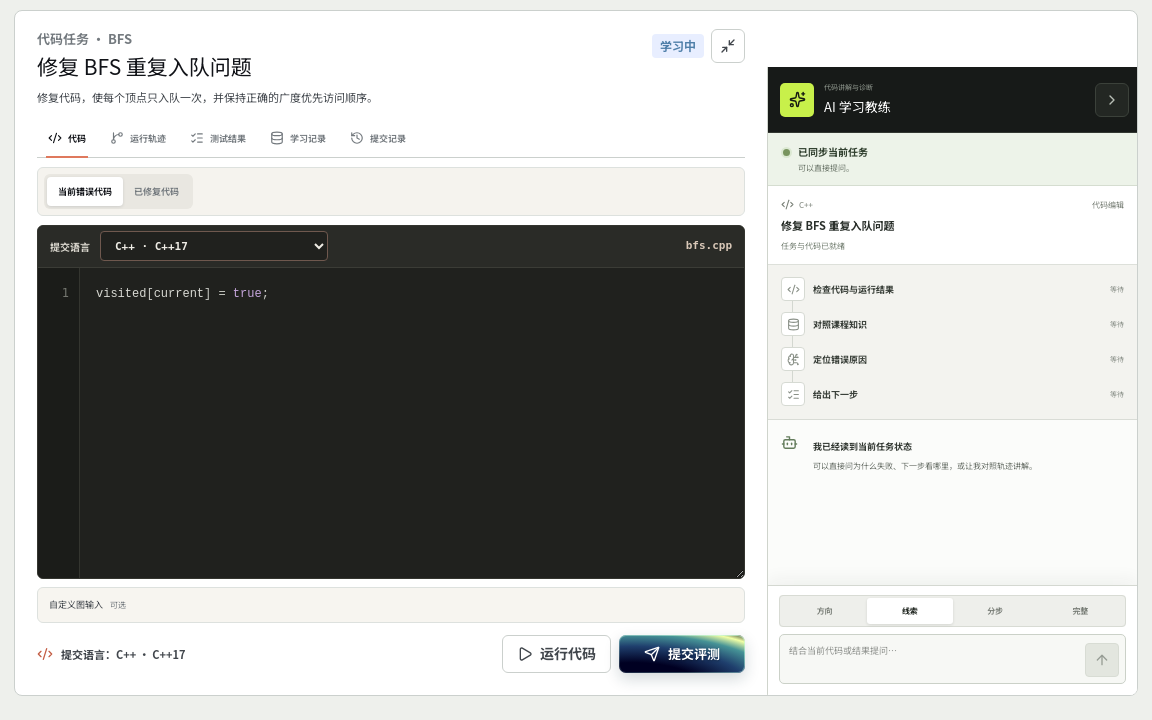
Test: WorkbenchPage › keeps a task-aware AI coach in place and sends the live test context with a hint level
Check: the heading "修复 BFS 重复入队问题" is shown, box [37,52,252,79]
Click the button "运行代码". click: (556, 654)
box: [502,635,611,673]
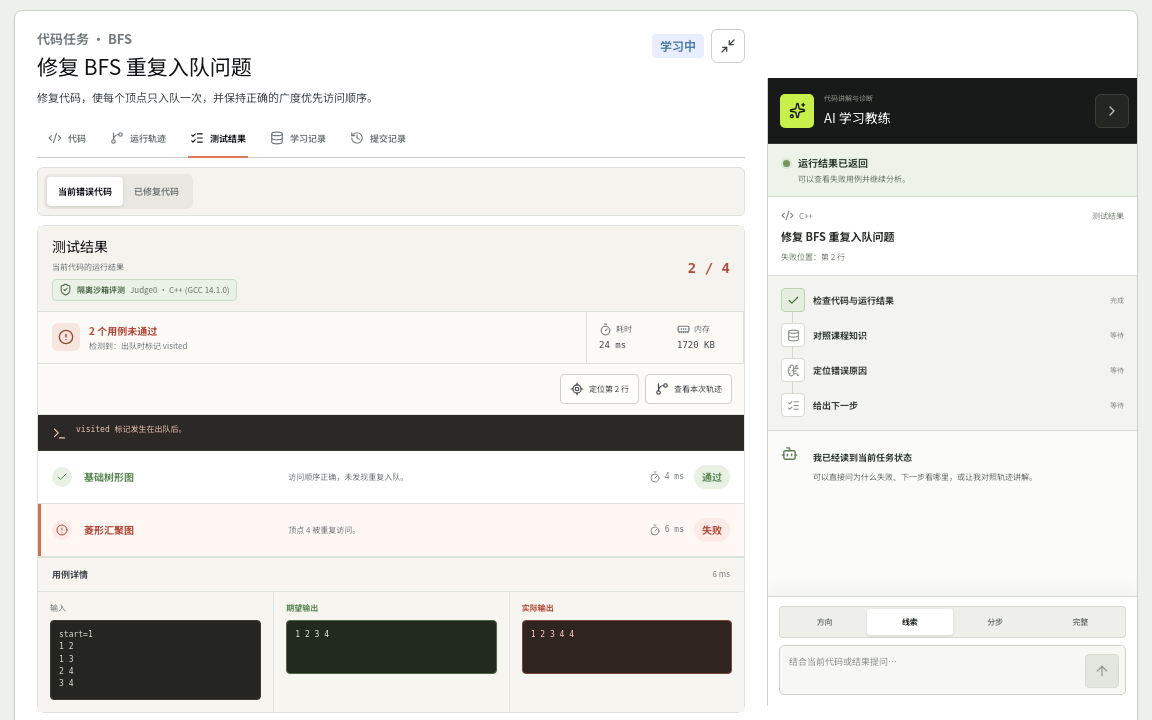
Check: the element "AI 学习教练" is shown, box [767,78,1137,706]
Check: the text "菱形汇聚图" is shown, box [84,522,134,537]
Check: the text "运行结果已返回" is shown, box [798,155,868,170]
Click the button with aria-label "只给方向". click: (825, 622)
box: [782,609,867,635]
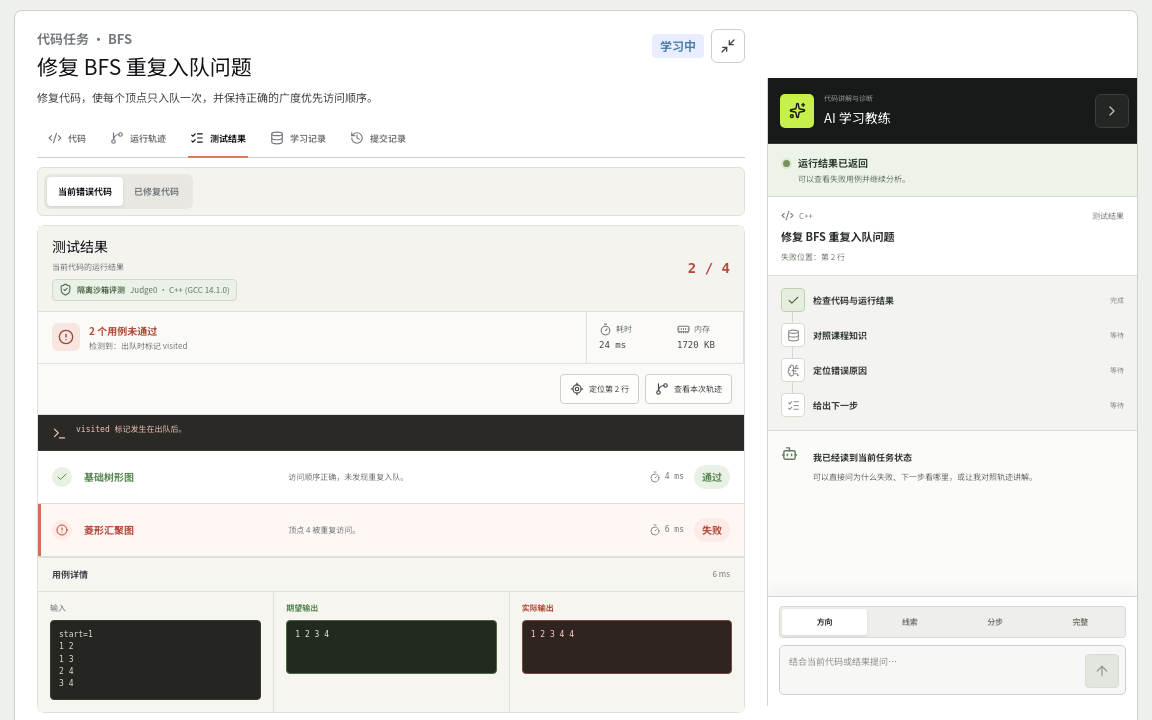
Type "我下一步先看哪里？" into the text box named "向学习教练提问". click: (934, 670)
box: [789,652,1079,688]
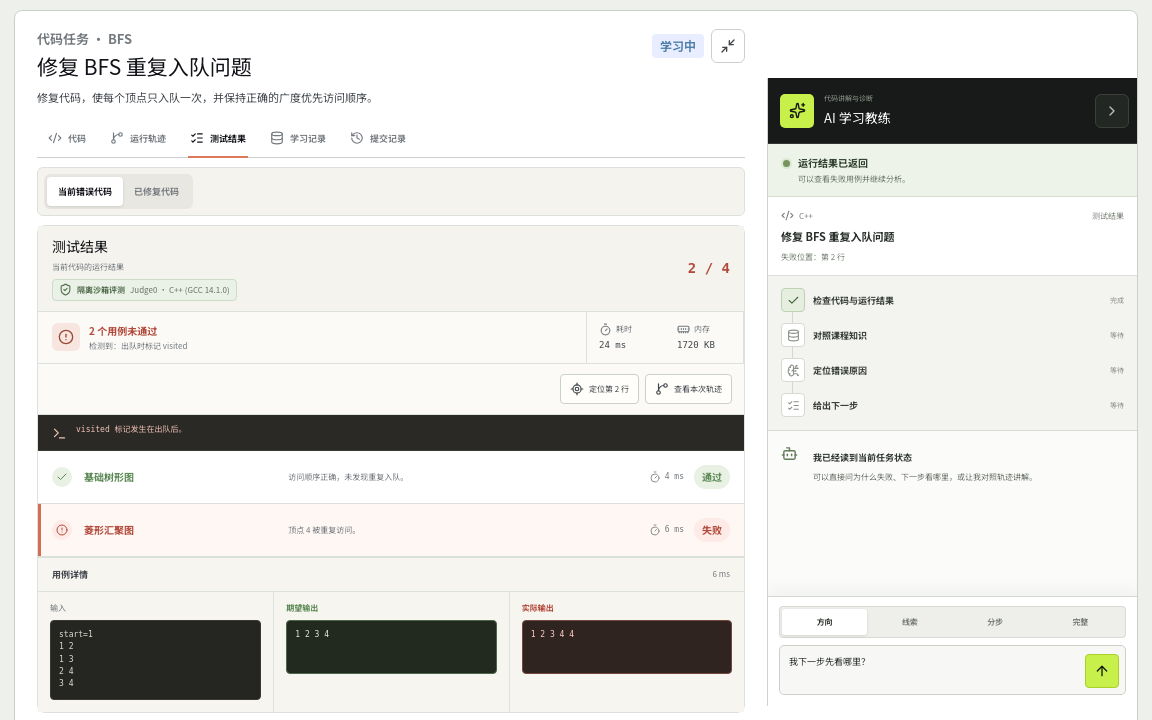
Click the button named "发送给学习教练". click: (1102, 671)
box: [1085,654,1119,688]
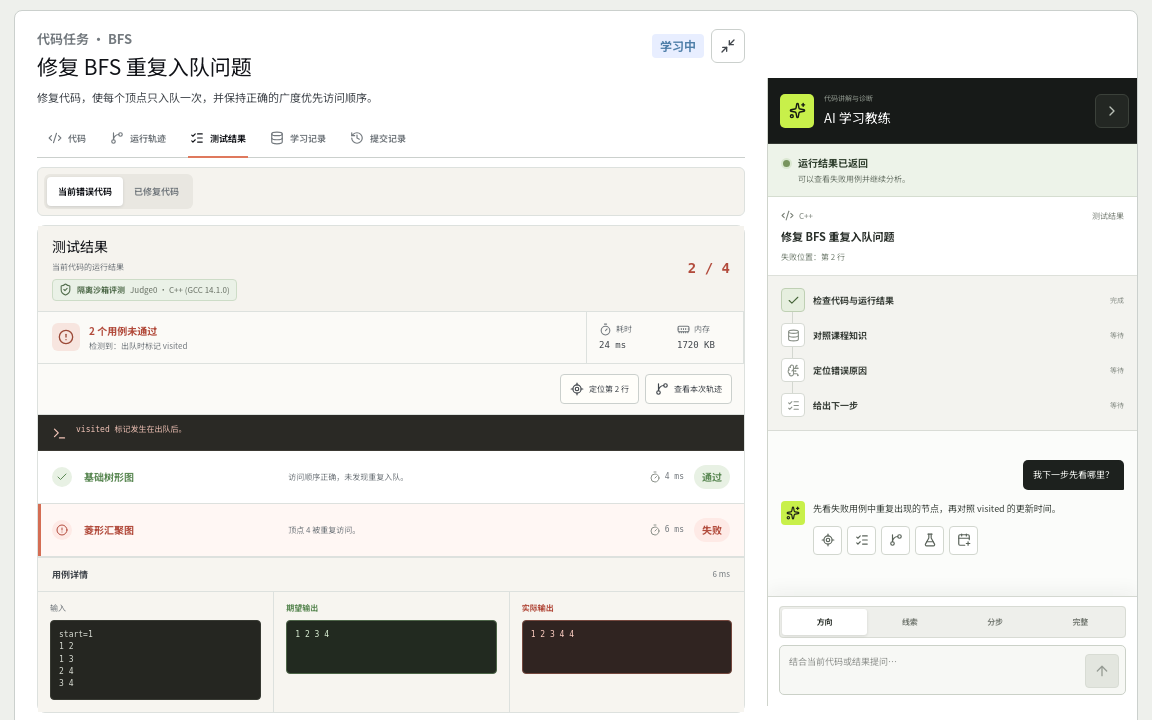
Check: the text "先看失败用例中重复出现的节点，再对照 visited 的更新时间。" is shown, box [813,502,1061,515]
Click the button named "生成针对性测试". click: (930, 540)
box: [915,526,944,555]
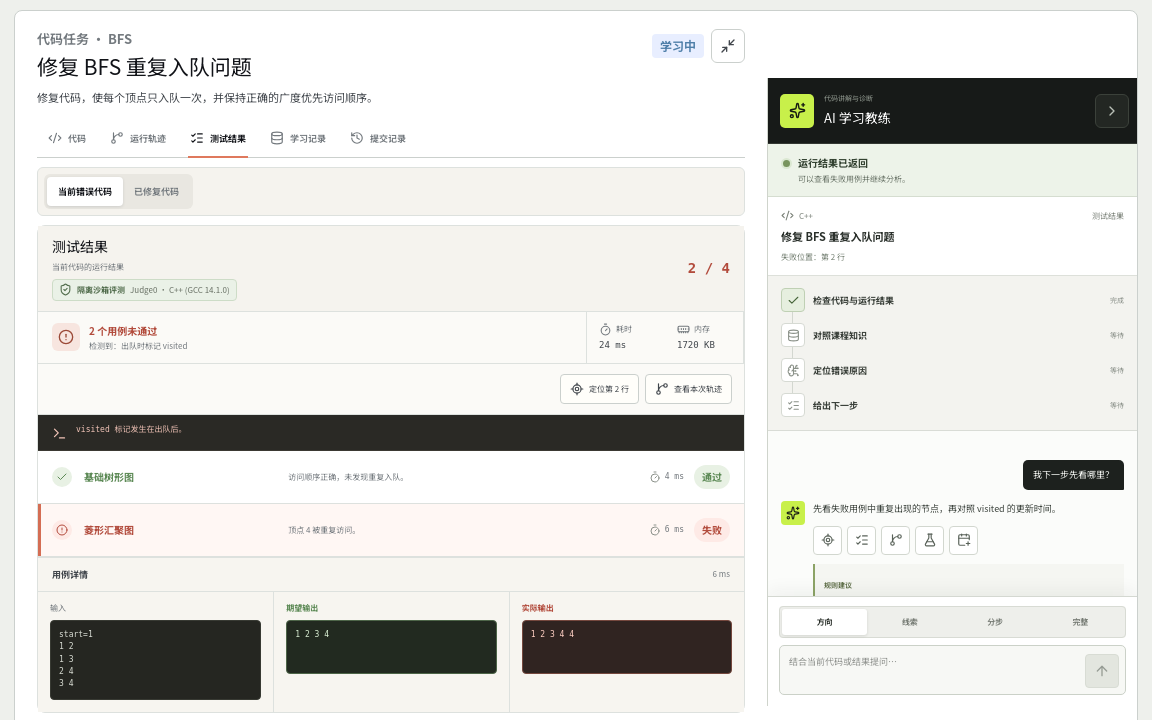
Click the button named "加入复习". click: (964, 540)
box: [949,526,978,555]
(page scrolled)
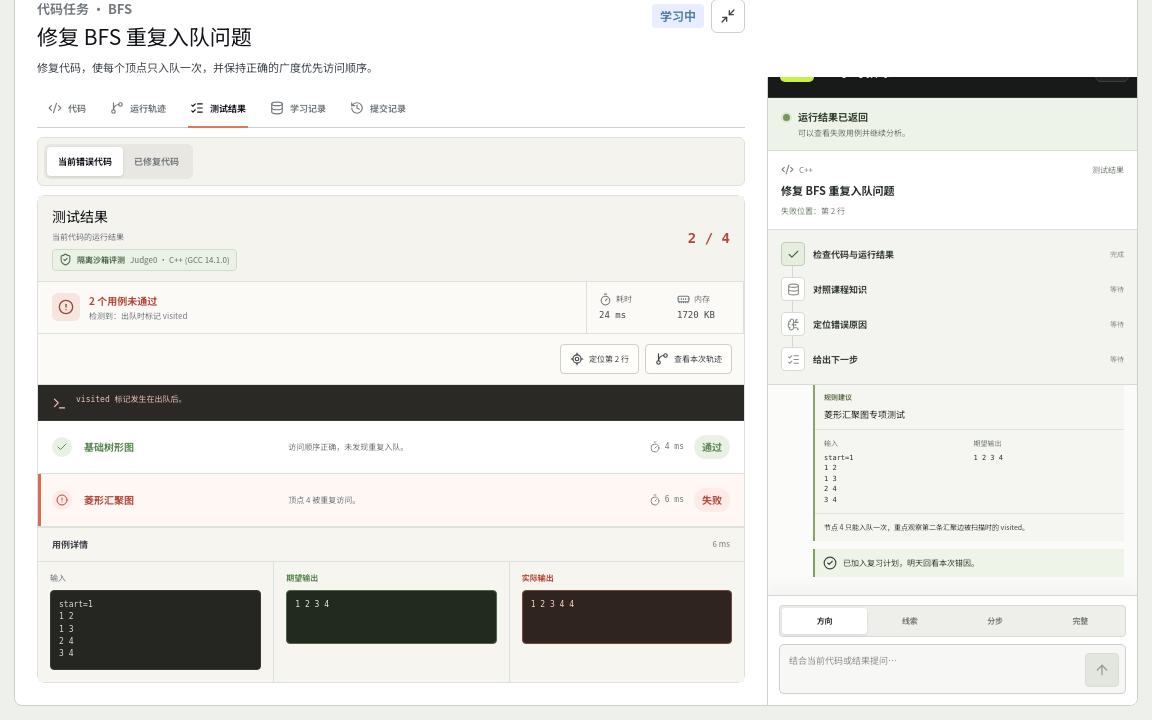
Check: the message named "复习任务已创建" shows "已加入复习计划", box [843,557,979,568]
